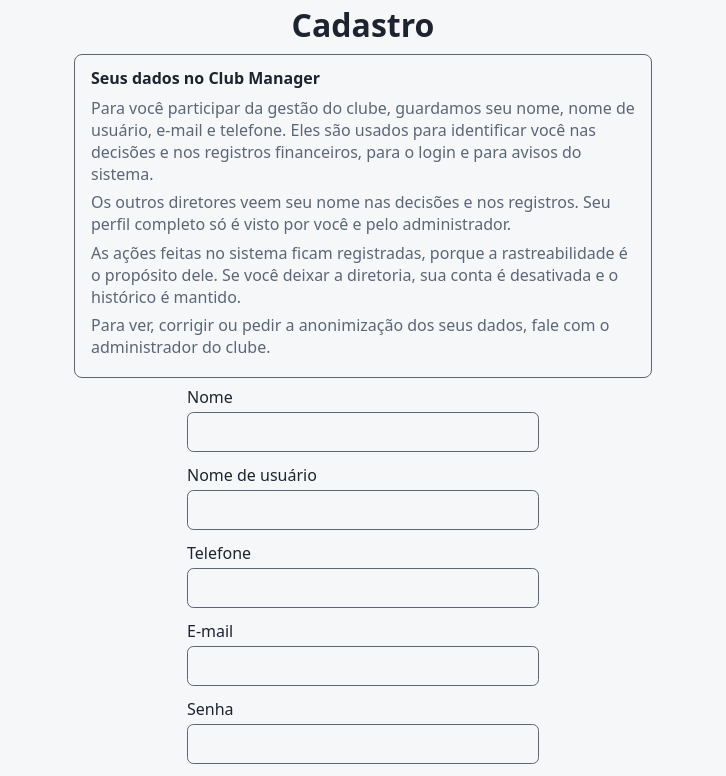
Test: cadastro pelo convite › envia o cadastro com o token do link e pede para verificar o e-mail
Type "Caio Convidado" into the field labelled "Nome".
click(363, 432); type("Caio Convidado")  # box [187, 412, 539, 452]
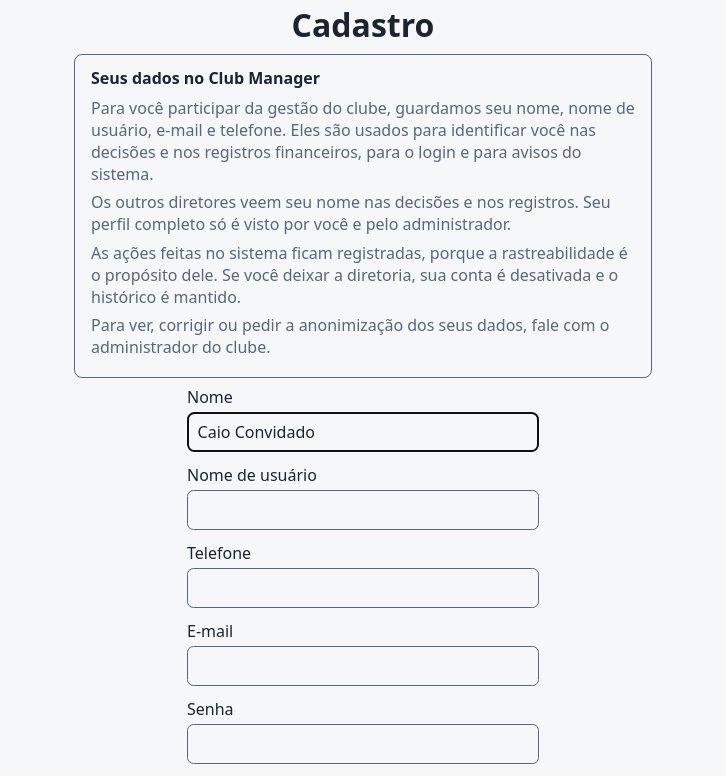
Type "caio" into the field labelled "Nome de usuário".
click(363, 510); type("caio")  # box [187, 490, 539, 530]
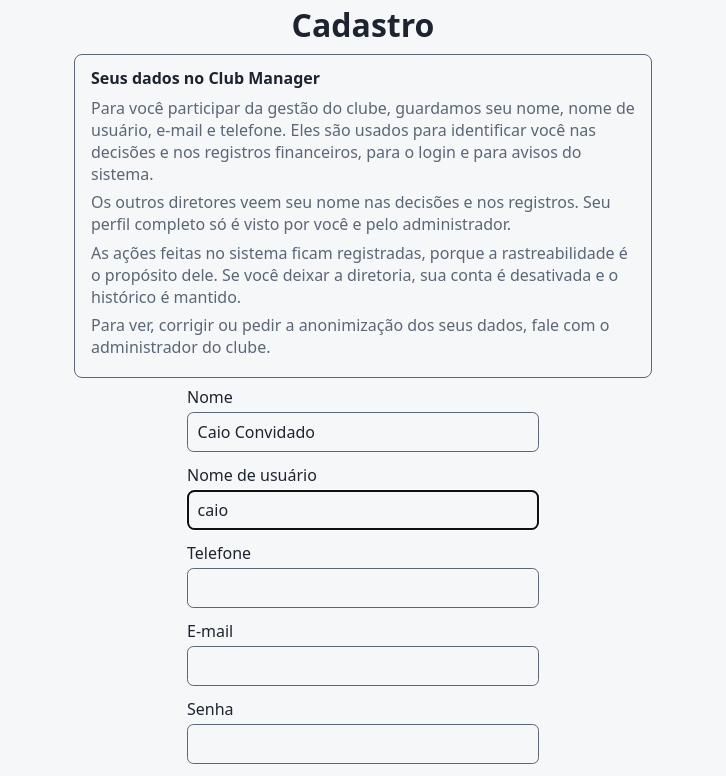
Type "11977776666" into the field labelled "Telefone".
click(363, 588); type("11977776666")  # box [187, 568, 539, 608]
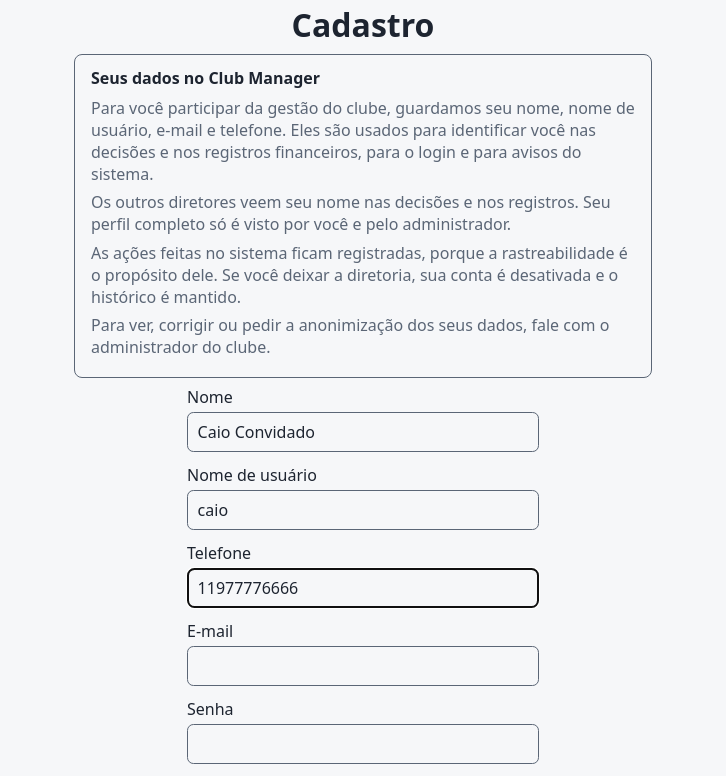
Type "caio@exemplo.com" into the field labelled "E-mail".
click(363, 666); type("caio@exemplo.com")  # box [187, 646, 539, 686]
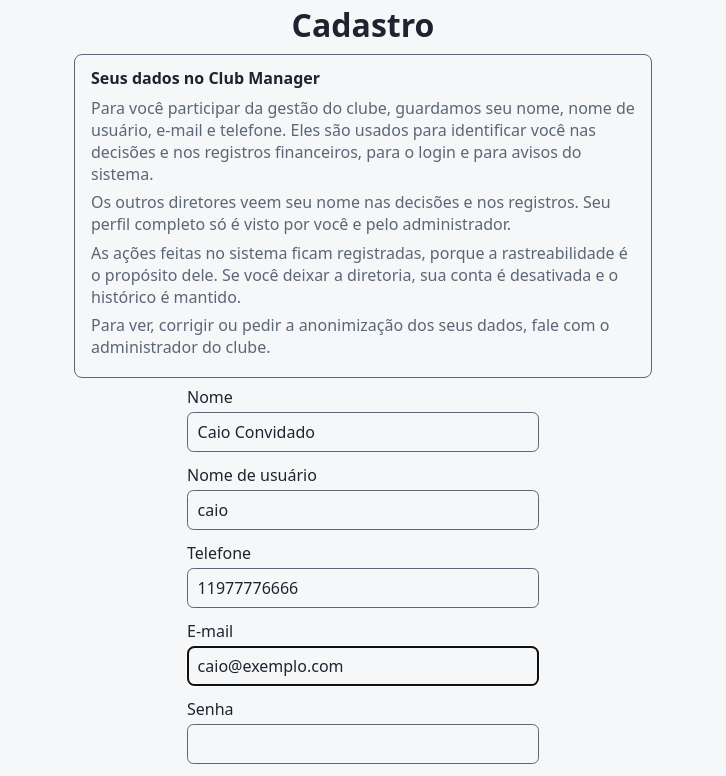
Type "uma-senha-comprida" into the password field labelled "Senha".
click(363, 744); type("uma-senha-comprida")  # box [187, 724, 539, 764]
(page scrolled)
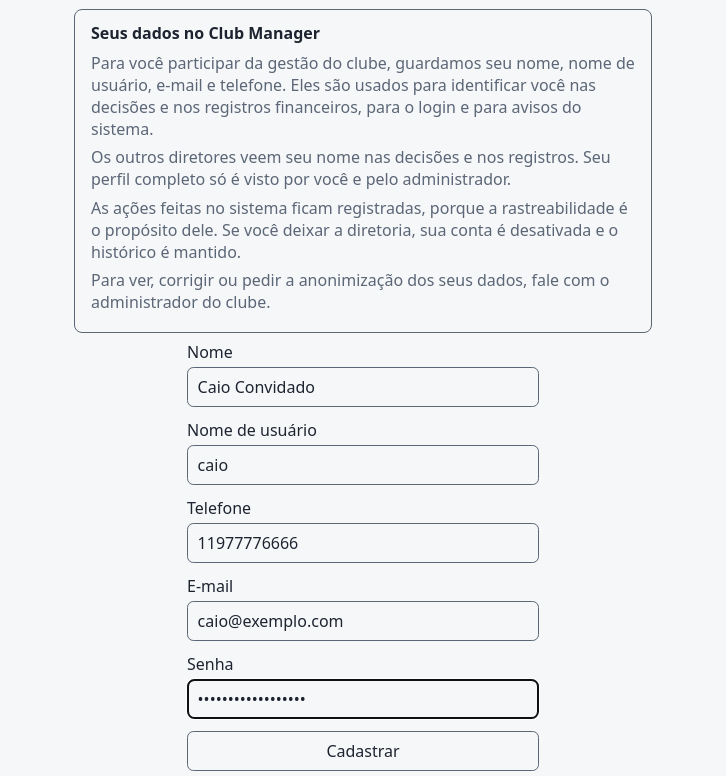
Click the button "Cadastrar".
click(363, 751)  # box [187, 731, 539, 771]
(page scrolled)
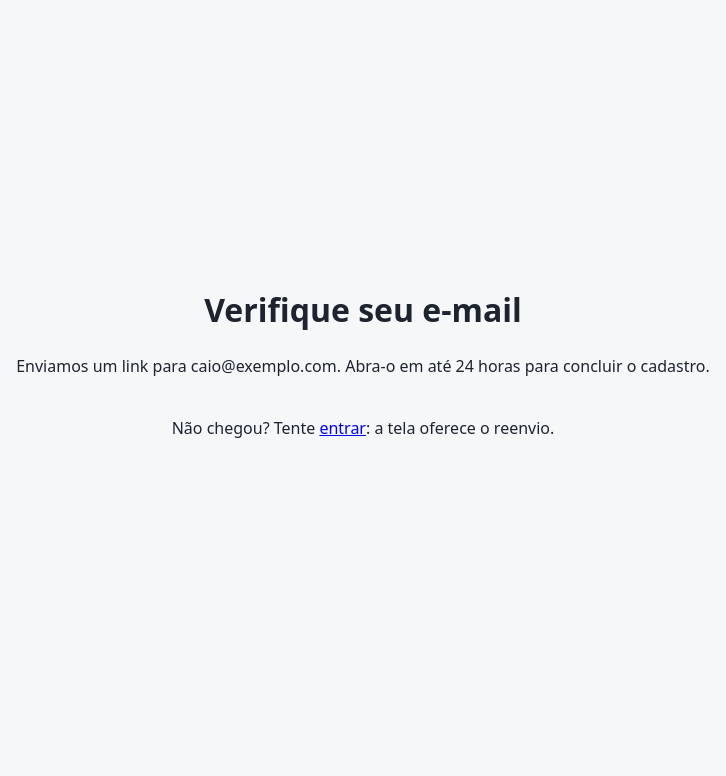
Expected: the text "Enviamos um link para caio@exemplo.com" is shown, [16, 354, 710, 376]
